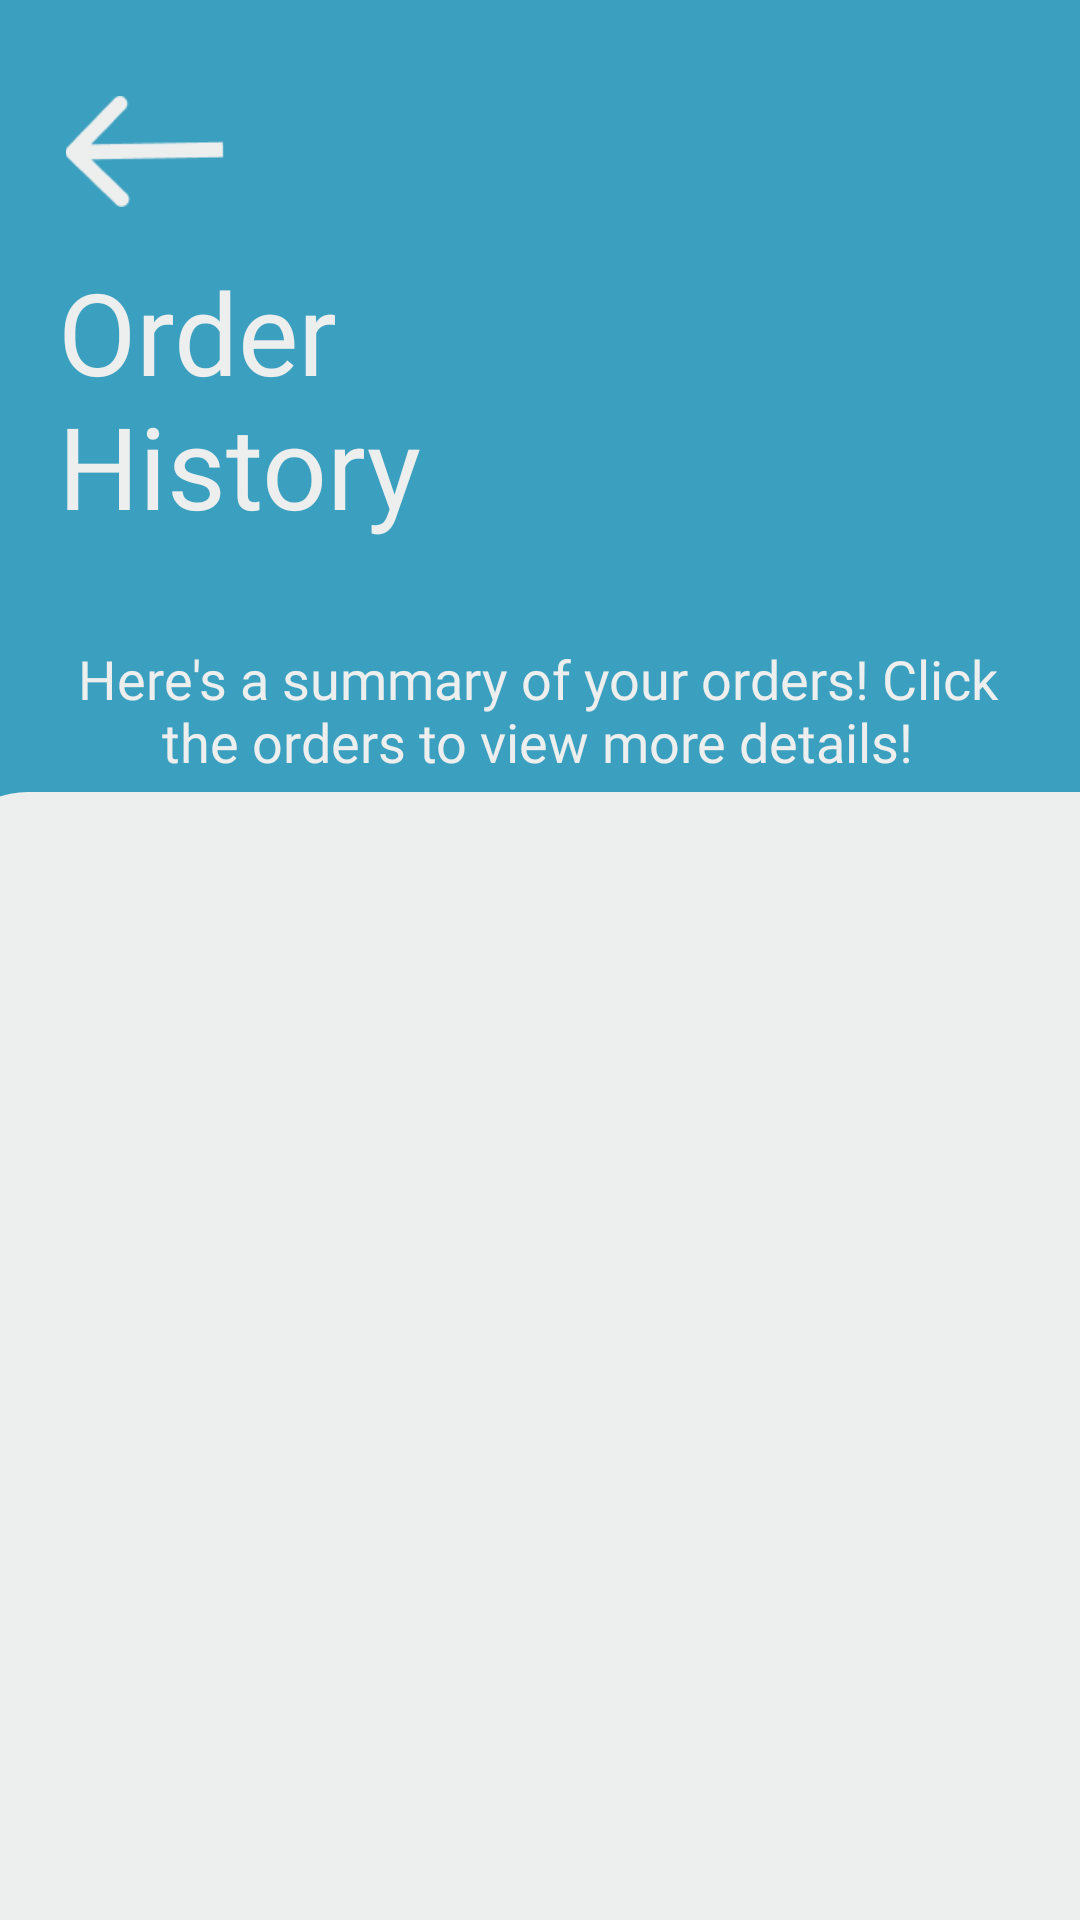

Named icons in this screenshot (1080 x 1920) and their bounding boxes, bbox(x1, y1, x2, y2):
backarrow: bbox(66, 96, 224, 207)
